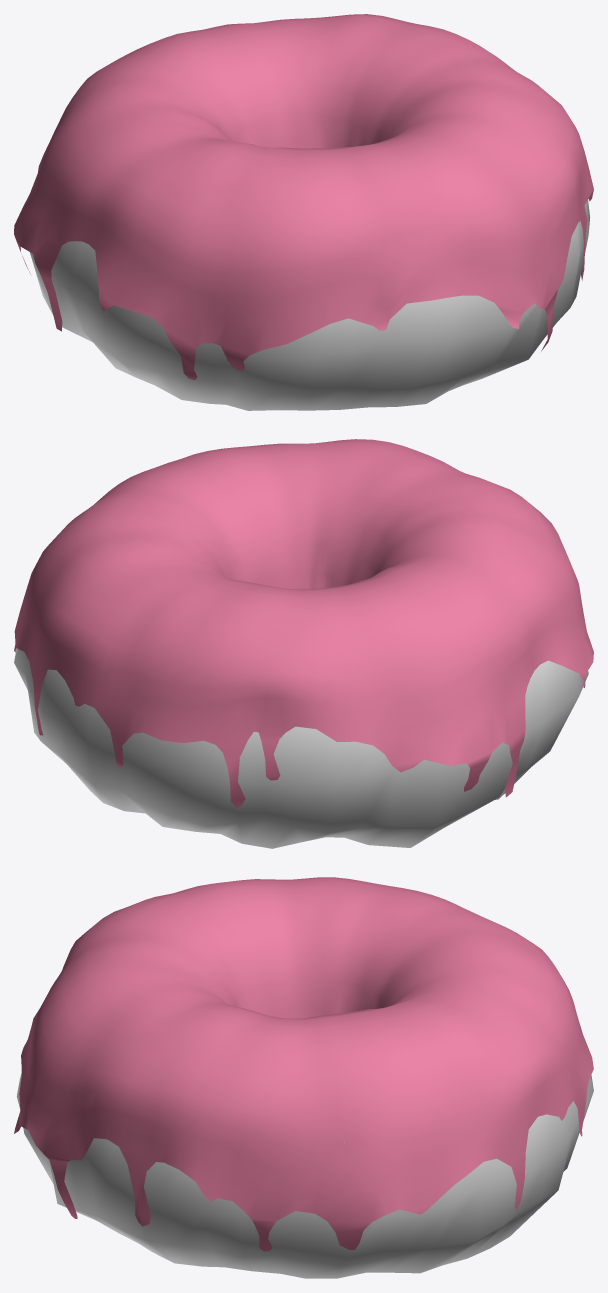
The model's file is donut.gltf.
3 views of the same model, one above another, from view 1: azimuth 30°, elevation 25°; view 2: azimuth 150°, elevation 25°; view 3: azimuth 270°, elevation 25° (orthographic).
Parts seen in each view (by area): view 1: Cube.001, Cube; view 2: Cube.001, Cube; view 3: Cube.001, Cube.
Part boxes in pixels (<box>): Cube.001: <box>14,14,593,379</box>; Cube: <box>30,199,590,410</box>; Cube.001: <box>14,439,593,807</box>; Cube: <box>14,648,588,848</box>; Cube.001: <box>14,877,593,1251</box>; Cube: <box>16,1073,593,1278</box>.
Bounding box in the file's own units: 2.25 × 1.1 × 2.26.
